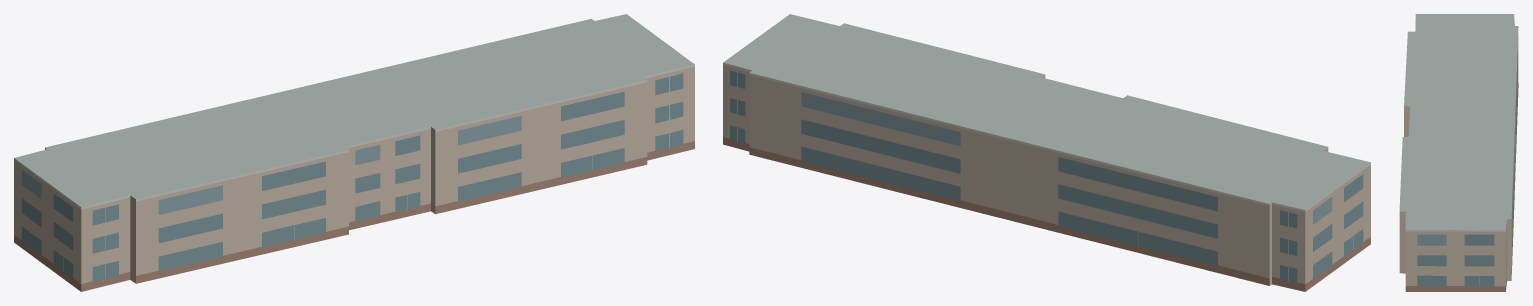
The model's file is survey-upis-32887155.glb.
The picture shows the model from 3 angles, left to right: view 1: azimuth 30°, elevation 25°; view 2: azimuth 150°, elevation 25°; view 3: azimuth 270°, elevation 25°; orthographic projection. The views are drawn at different scales.
Parts seen in each view (by area): view 1: survey-upis-32887155.tmp; view 2: survey-upis-32887155.tmp; view 3: survey-upis-32887155.tmp.
Part boxes in pixels (bbox=[...]): survey-upis-32887155.tmp: bbox=[14, 14, 694, 291]; survey-upis-32887155.tmp: bbox=[723, 14, 1370, 291]; survey-upis-32887155.tmp: bbox=[1399, 14, 1518, 291].
Bounding box in the file's own units: 68.74 × 9.15 × 15.99.
